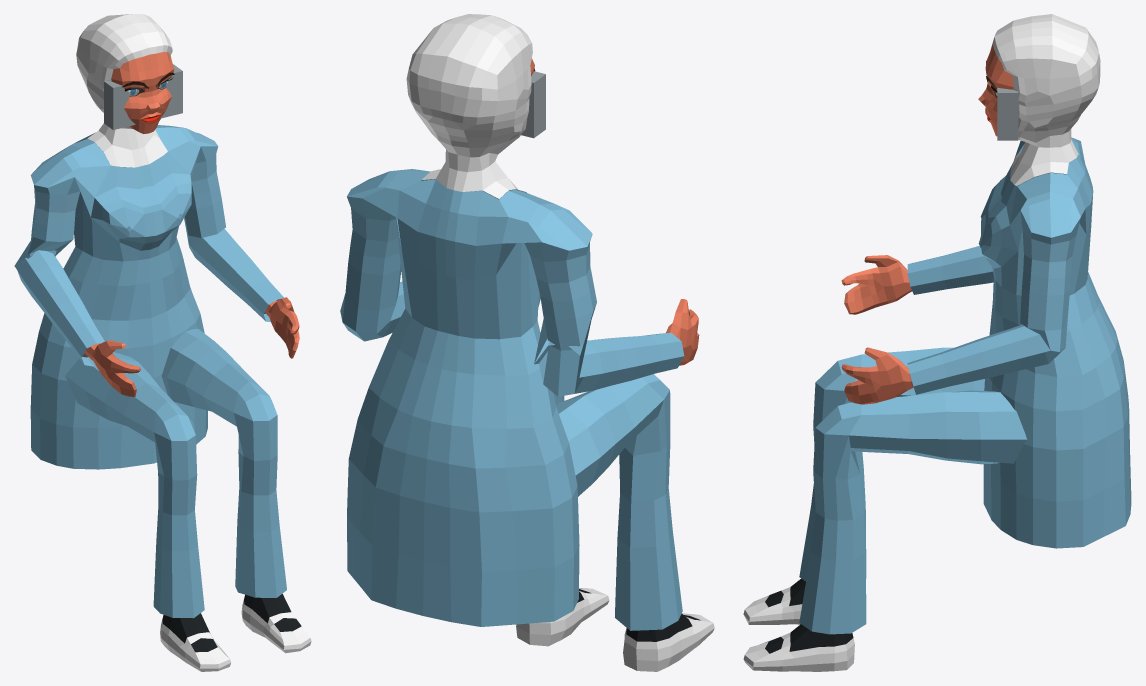
File: Nurse_Sit_Mask.fbx
3 views of the same model, side by side, from view 1: azimuth 30°, elevation 25°; view 2: azimuth 150°, elevation 25°; view 3: azimuth 270°, elevation 25° (orthographic). The views are drawn at different scales.
Parts seen in each view (by area): view 1: Nurse_Sit_Mask; view 2: Nurse_Sit_Mask; view 3: Nurse_Sit_Mask.
Boxes of the visible parts, bbox=[...] form: Nurse_Sit_Mask: bbox=[14, 14, 311, 671]; Nurse_Sit_Mask: bbox=[340, 14, 714, 671]; Nurse_Sit_Mask: bbox=[743, 14, 1131, 671].
Size of the model in its own units: 0.2819 by 0.7132 by 0.4047.
